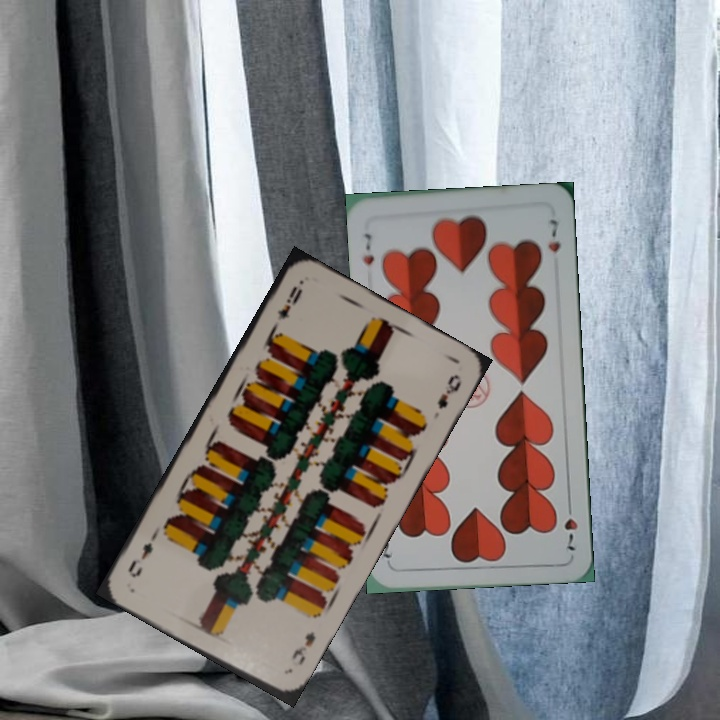E9: (273, 282, 305, 323), (287, 627, 318, 668)
H7: (560, 497, 580, 553), (358, 229, 377, 268)
